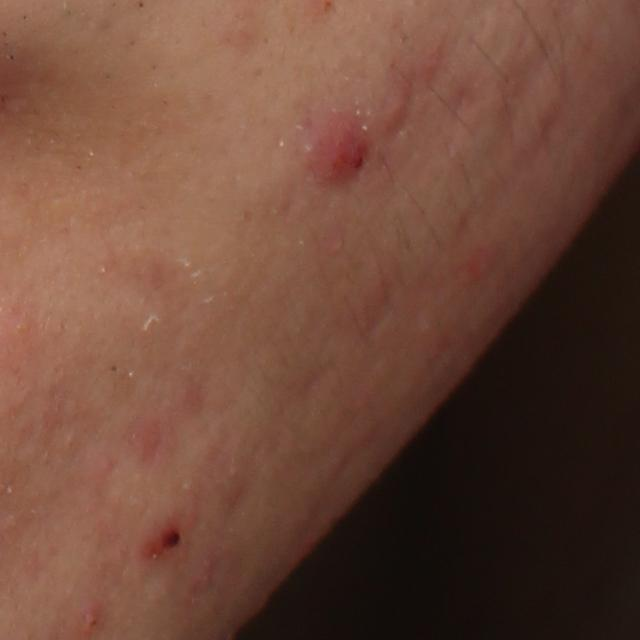papule: (296, 114, 379, 194), (378, 75, 414, 136), (141, 520, 187, 556), (77, 600, 106, 634)
